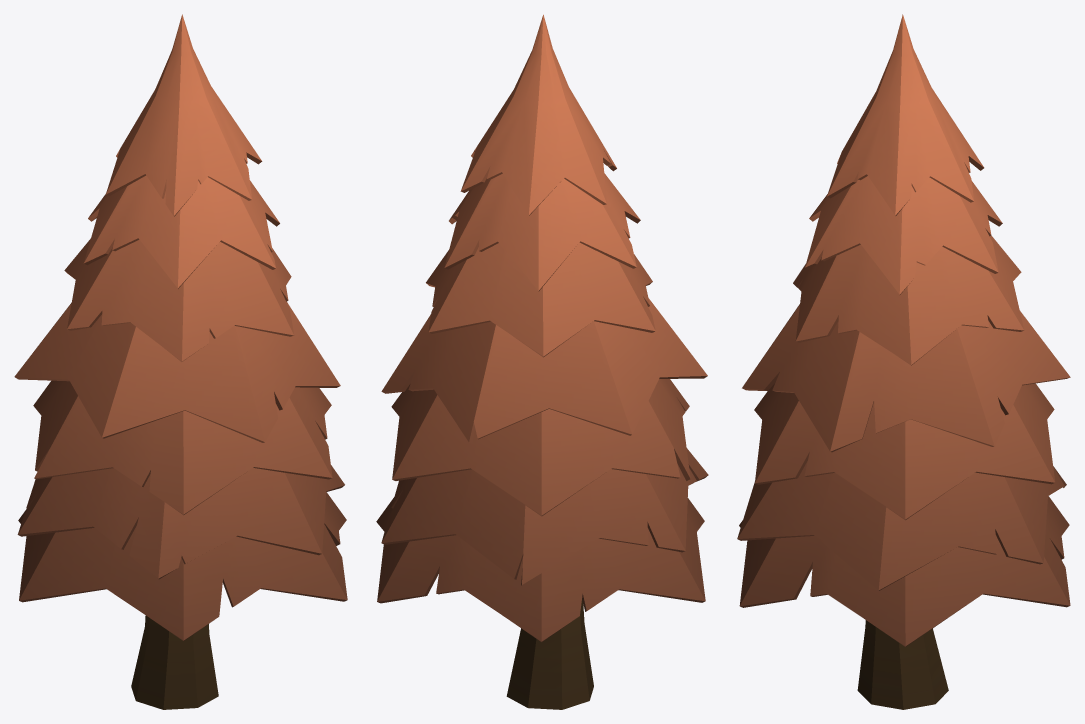
The model's file is Autumn_Tree_01.glb.
3 renders of one model, left to right at view 1: azimuth 30°, elevation 25°; view 2: azimuth 150°, elevation 25°; view 3: azimuth 270°, elevation 25°, orthographic.
Visible parts, largest first — view 1: Autumn_Tree_01_LOD0; view 2: Autumn_Tree_01_LOD0; view 3: Autumn_Tree_01_LOD0.
Part boxes in pixels (x1,y1,x2,y2): Autumn_Tree_01_LOD0: [14, 14, 347, 709]; Autumn_Tree_01_LOD0: [376, 14, 708, 709]; Autumn_Tree_01_LOD0: [737, 14, 1070, 709].
Size of what is drawn, in the model's own units: 2.3 by 4.53 by 2.01.
1 material, 1 textured.
